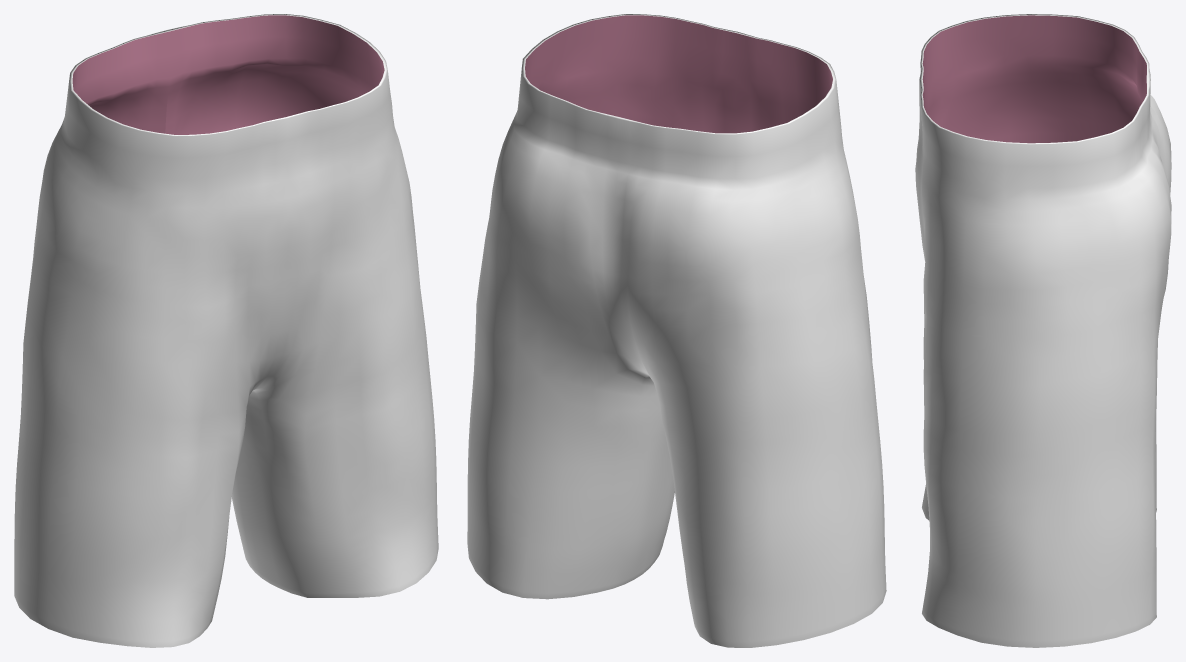
3 views of the same model, side by side, from view 1: azimuth 30°, elevation 25°; view 2: azimuth 150°, elevation 25°; view 3: azimuth 270°, elevation 25° (orthographic). The views are drawn at different scales.
Visible parts, largest first — view 1: main, reverse; view 2: main, reverse; view 3: main, reverse.
Boxes of the visible parts, box(x1,y1,x2,y2) form: main: box(14, 14, 438, 647); reverse: box(72, 15, 384, 134); main: box(467, 14, 886, 647); reverse: box(525, 15, 832, 133); main: box(915, 14, 1171, 647); reverse: box(922, 15, 1146, 143).
Size of the model in its own units: 0.7391 by 0.921 by 0.4343.
